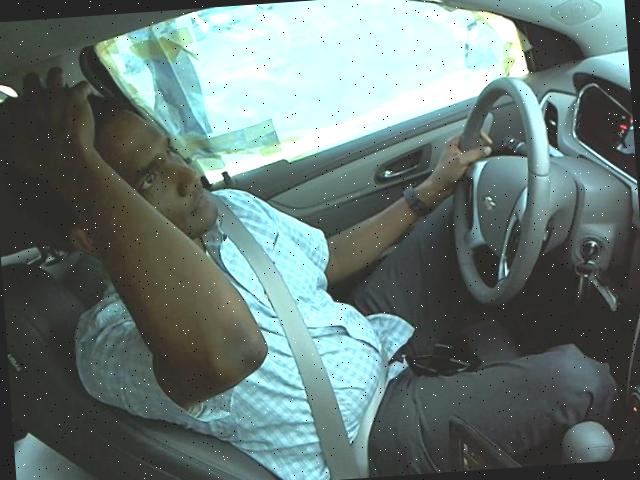c6 - Hair and Makeup: (1, 24, 568, 406)
